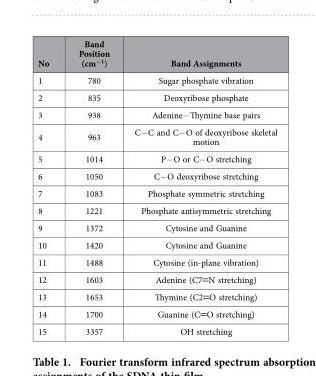table: (37, 37, 276, 337)
table column: (121, 37, 276, 337), (63, 37, 121, 337), (37, 37, 63, 337)
table column header: (37, 37, 276, 71)
table row: (37, 37, 276, 71), (37, 123, 276, 149), (37, 303, 276, 322), (37, 105, 276, 123), (37, 149, 276, 167), (37, 218, 276, 236), (37, 71, 276, 88), (37, 88, 276, 105), (37, 167, 276, 184), (37, 184, 276, 201), (37, 201, 276, 218), (37, 236, 276, 253), (37, 269, 276, 286), (37, 286, 276, 303), (37, 253, 276, 269), (37, 322, 276, 337)
